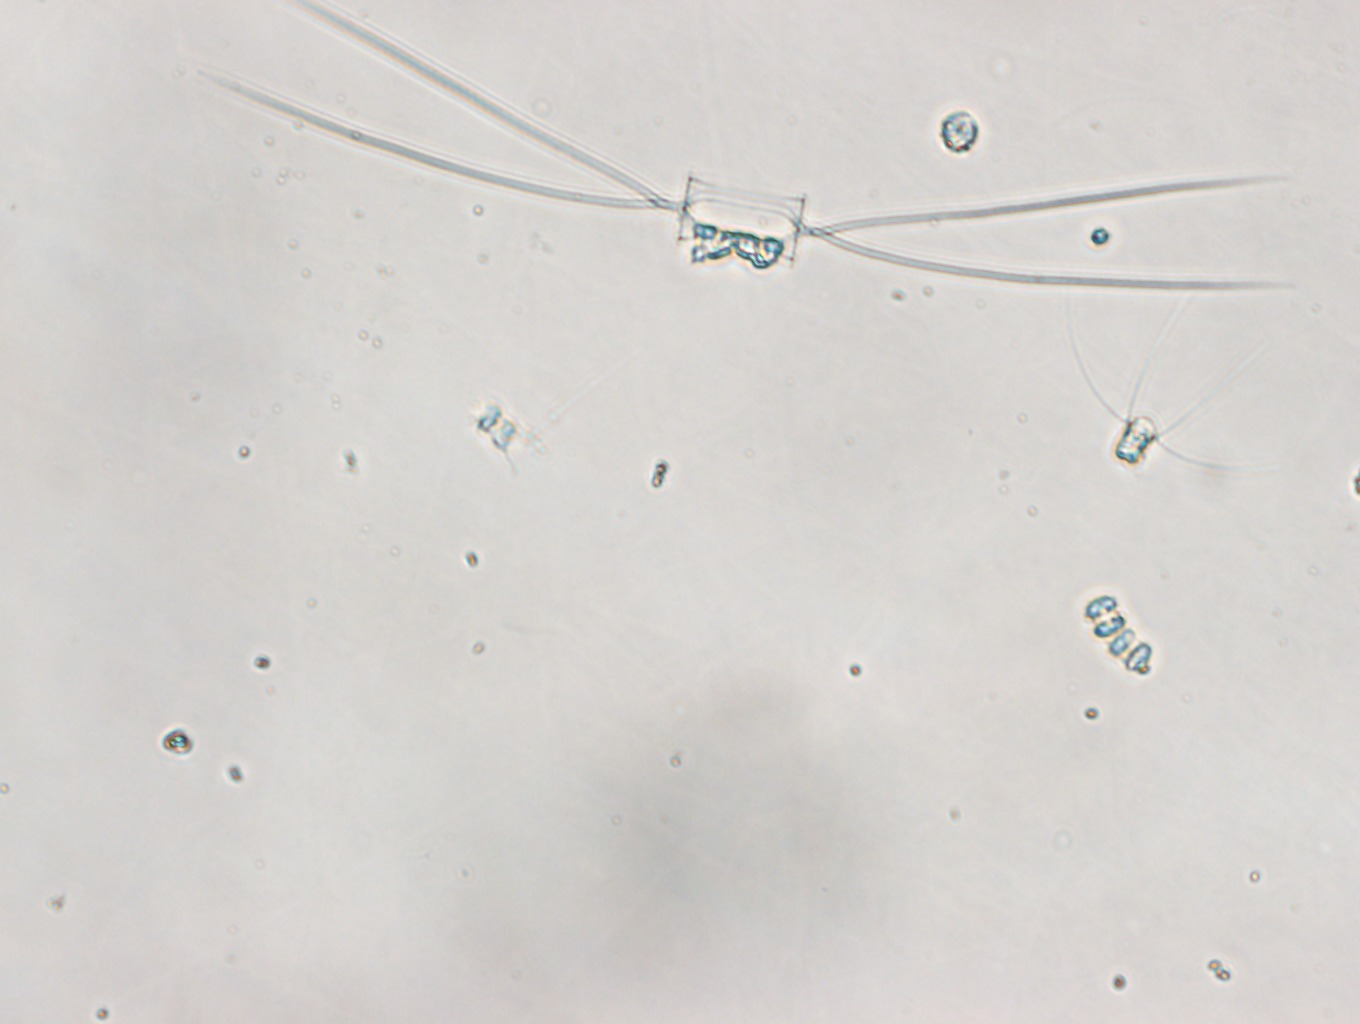chaetoceros: (194, 1, 1295, 293), (1071, 293, 1280, 472)
